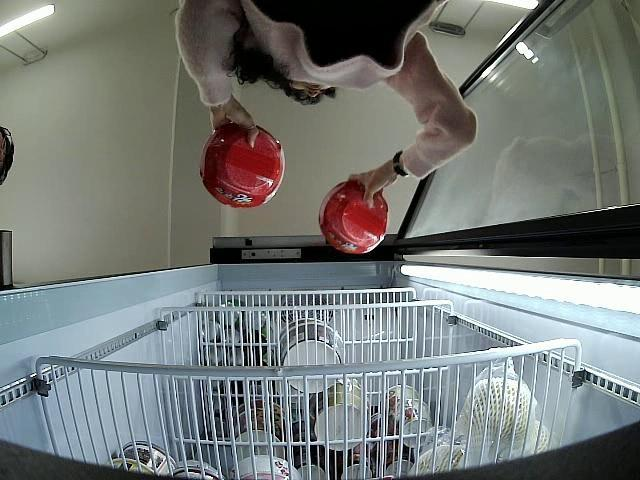10_wangTtukkeong: (200, 123, 286, 208), (319, 182, 388, 252)
